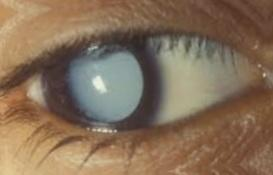eye: (41, 40, 159, 130)
